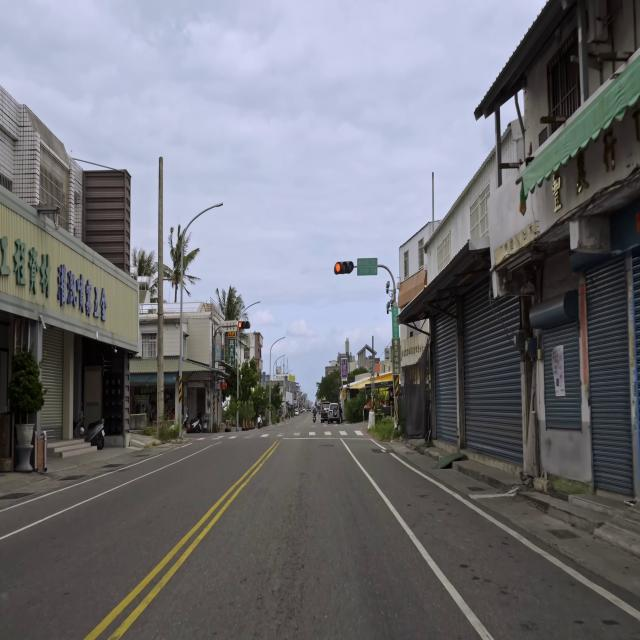red light: (334, 261, 354, 273), (238, 321, 250, 329)
